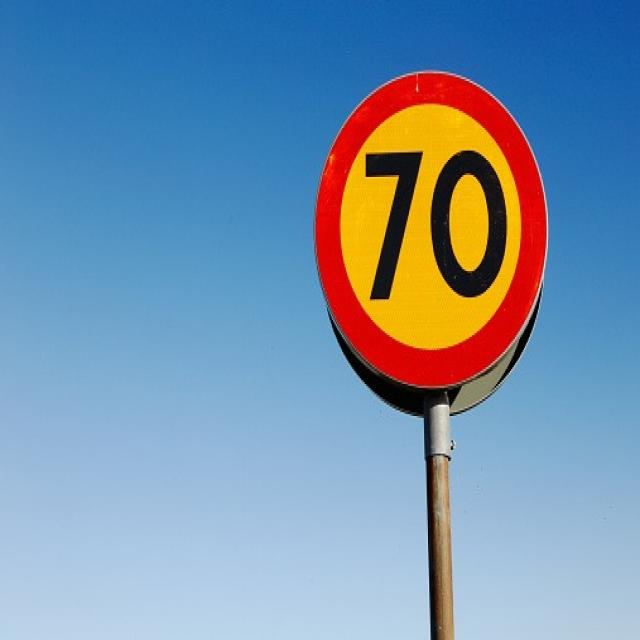speed_limit_70: (314, 68, 562, 404)
